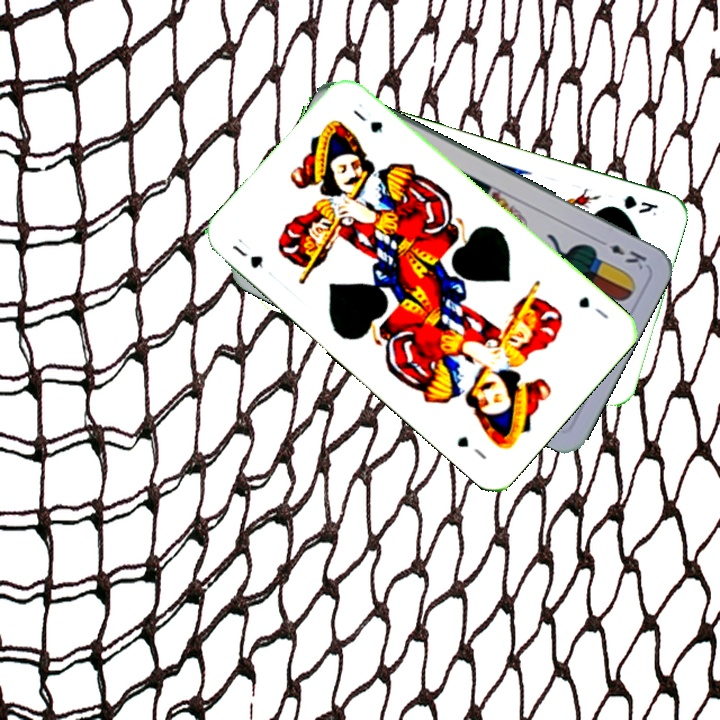EK: (593, 234, 650, 273)
GK: (619, 191, 661, 219)
GU: (228, 234, 266, 271), (574, 292, 612, 322)
